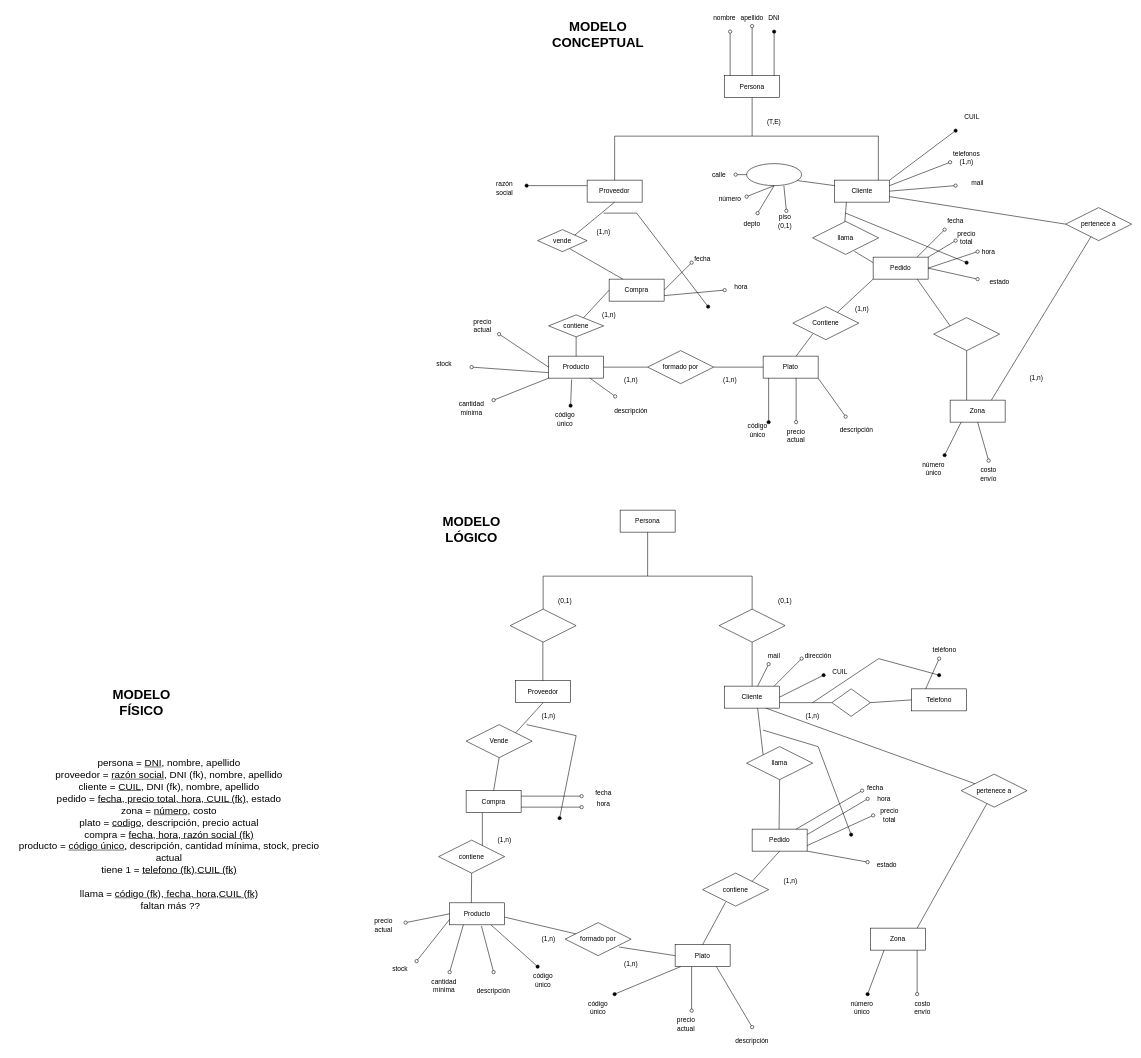
This 1141x1058 diagram has some shape labels left out. The shapes that lost their labels are listed below. From the top down, each one's centre as x and y in pixels, then its label:
At [774,174]: "Dirección detallada".
At [966,334]: "es repartido a".
At [543,625]: "es 2".
At [752,625]: "es 1".
At [850,702]: "tiene".
